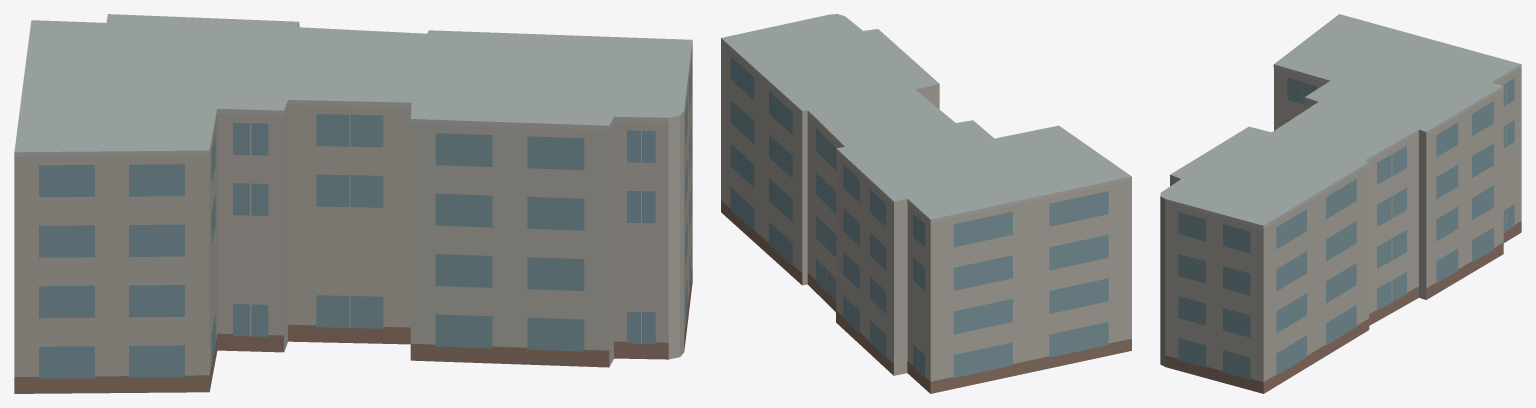
The model's file is survey-upis-33014708.glb.
The picture shows the model from 3 angles, left to right: view 1: azimuth 30°, elevation 25°; view 2: azimuth 150°, elevation 25°; view 3: azimuth 270°, elevation 25°; orthographic projection. The views are drawn at different scales.
Parts seen in each view (by area): view 1: survey-upis-33014708.tmp; view 2: survey-upis-33014708.tmp; view 3: survey-upis-33014708.tmp.
Boxes of the visible parts, bbox=[...] form: survey-upis-33014708.tmp: bbox=[14, 14, 692, 393]; survey-upis-33014708.tmp: bbox=[721, 14, 1131, 393]; survey-upis-33014708.tmp: bbox=[1160, 14, 1521, 393].
Size of the model in its own units: 32.96 by 12.2 by 23.78.
